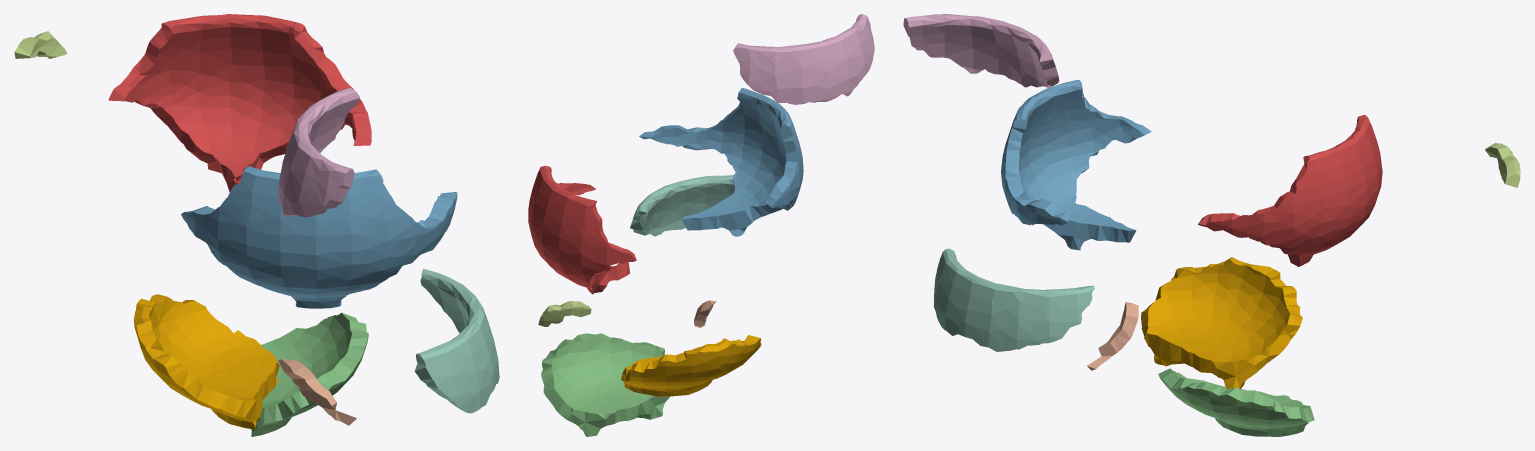
The model's file is mode_7_8pcs_transformed.glb.
The picture shows the model from 3 angles, left to right: view 1: azimuth 30°, elevation 25°; view 2: azimuth 150°, elevation 25°; view 3: azimuth 270°, elevation 25°; orthographic projection. The views are drawn at different scales.
Parts seen in each view (by area): view 1: piece_1.obj, piece_2.obj, piece_0.obj, piece_4.obj, piece_3.obj, piece_6.obj, piece_7.obj, piece_5.obj; view 2: piece_2.obj, piece_3.obj, piece_1.obj, piece_6.obj, piece_0.obj, piece_4.obj, piece_5.obj, piece_7.obj; view 3: piece_0.obj, piece_2.obj, piece_1.obj, piece_4.obj, piece_6.obj, piece_3.obj, piece_7.obj, piece_5.obj.
Part boxes in pixels (x1,y1,x2,y2): piece_1.obj: (108, 14, 371, 192); piece_2.obj: (181, 166, 457, 308); piece_0.obj: (133, 294, 279, 429); piece_4.obj: (414, 269, 499, 413); piece_3.obj: (251, 312, 368, 436); piece_6.obj: (278, 88, 359, 217); piece_7.obj: (278, 359, 356, 425); piece_5.obj: (14, 31, 67, 58); piece_2.obj: (639, 88, 803, 236); piece_3.obj: (541, 333, 670, 436); piece_1.obj: (528, 165, 636, 294); piece_6.obj: (733, 14, 874, 104); piece_0.obj: (621, 335, 761, 396); piece_4.obj: (630, 175, 735, 236); piece_5.obj: (538, 301, 591, 326); piece_7.obj: (694, 300, 716, 328); piece_0.obj: (1141, 257, 1302, 389); piece_2.obj: (1001, 80, 1151, 250); piece_1.obj: (1198, 115, 1382, 266); piece_4.obj: (933, 248, 1094, 351); piece_6.obj: (903, 14, 1059, 87); piece_3.obj: (1158, 368, 1314, 436); piece_7.obj: (1087, 302, 1138, 370); piece_5.obj: (1485, 143, 1520, 187).
Bounding box in the file's own units: 0.9997 × 1.66 × 2.59.
